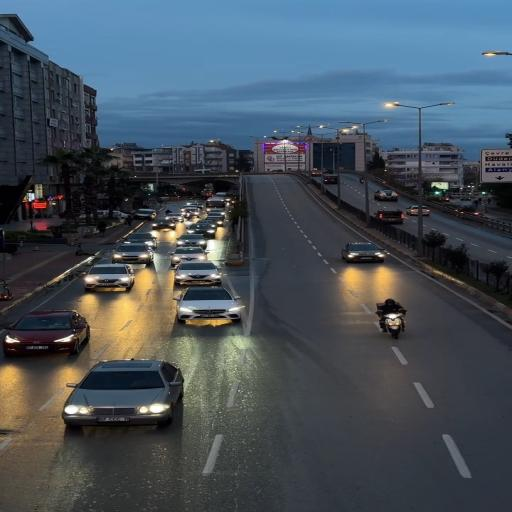bike: (362, 299, 460, 342)
car: (84, 361, 233, 444), (7, 314, 91, 358), (166, 287, 248, 326), (106, 238, 184, 273), (329, 240, 409, 265), (174, 236, 255, 259), (83, 262, 131, 293), (364, 185, 426, 209), (169, 202, 236, 220), (144, 220, 201, 240), (405, 202, 461, 220), (377, 209, 409, 228)
lights: (380, 98, 471, 264), (311, 102, 411, 196), (268, 125, 334, 215)
